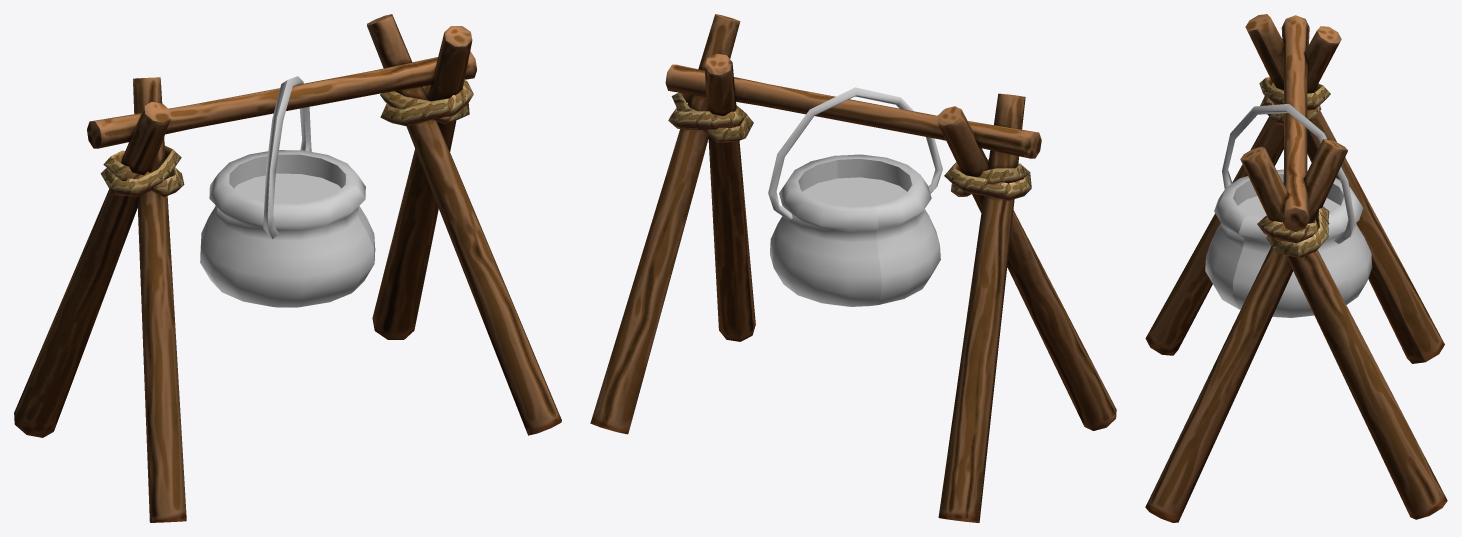
Rendered from Rack_pot.fbx.
3 views of the same model, side by side, from view 1: azimuth 30°, elevation 25°; view 2: azimuth 150°, elevation 25°; view 3: azimuth 270°, elevation 25° (orthographic). The views are drawn at different scales.
Visible parts, largest first — view 1: Rack.002; view 2: Rack.002; view 3: Rack.002.
Boxes of the visible parts, left/top/right/bottom form: Rack.002: left=14, top=14, right=561, bottom=522; Rack.002: left=590, top=14, right=1116, bottom=522; Rack.002: left=1145, top=14, right=1447, bottom=522.
Size of the model in its own units: 2.73 by 2.46 by 1.86.
